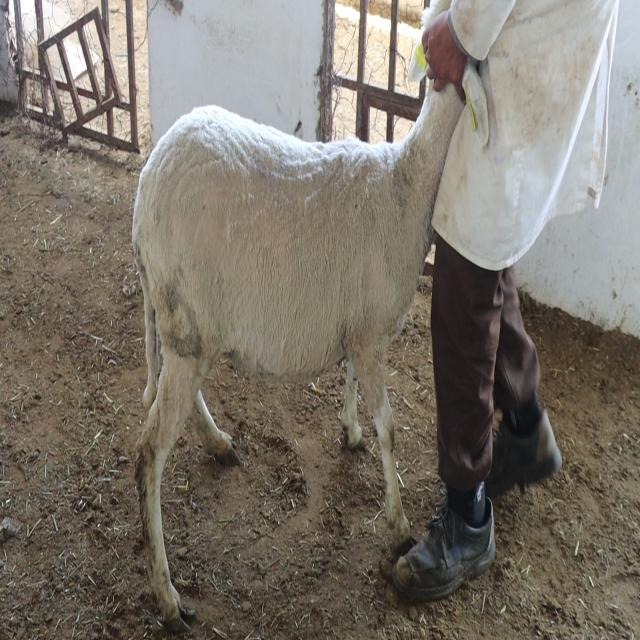Score_4: (132, 84, 462, 631)
